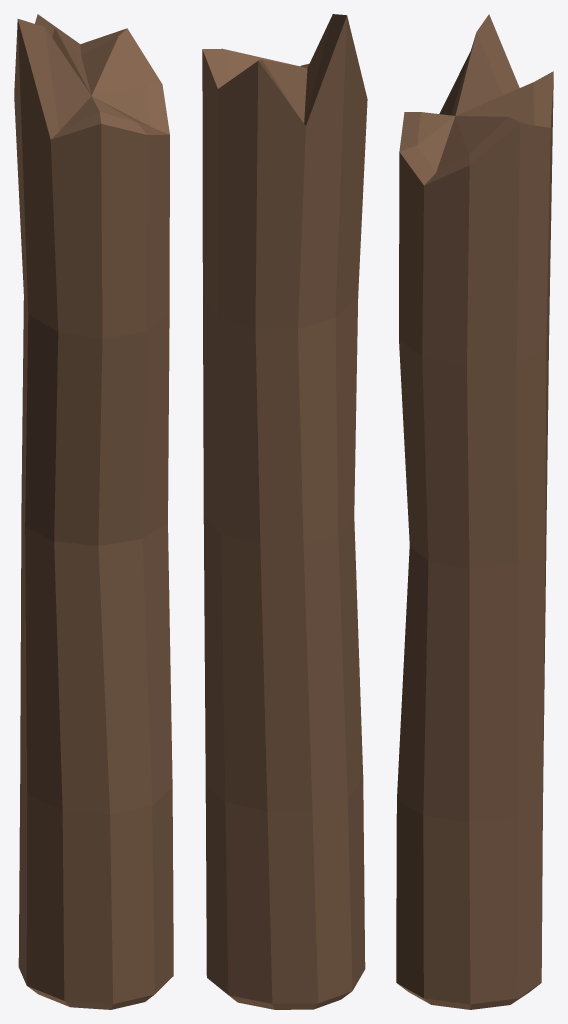
File: Axe_02_Destroyed2.fbx
3 views of the same model, side by side, from view 1: azimuth 30°, elevation 25°; view 2: azimuth 150°, elevation 25°; view 3: azimuth 270°, elevation 25° (orthographic). The views are drawn at different scales.
Parts seen in each view (by area): view 1: Axe_02_Destroyed2; view 2: Axe_02_Destroyed2; view 3: Axe_02_Destroyed2.
Boxes of the visible parts, box(x1,y1,x2,y2) form: Axe_02_Destroyed2: box(14, 14, 173, 1009); Axe_02_Destroyed2: box(202, 14, 367, 1009); Axe_02_Destroyed2: box(396, 14, 553, 1009).
Size of the model in its own units: 10.67 by 73.5 by 11.2.
